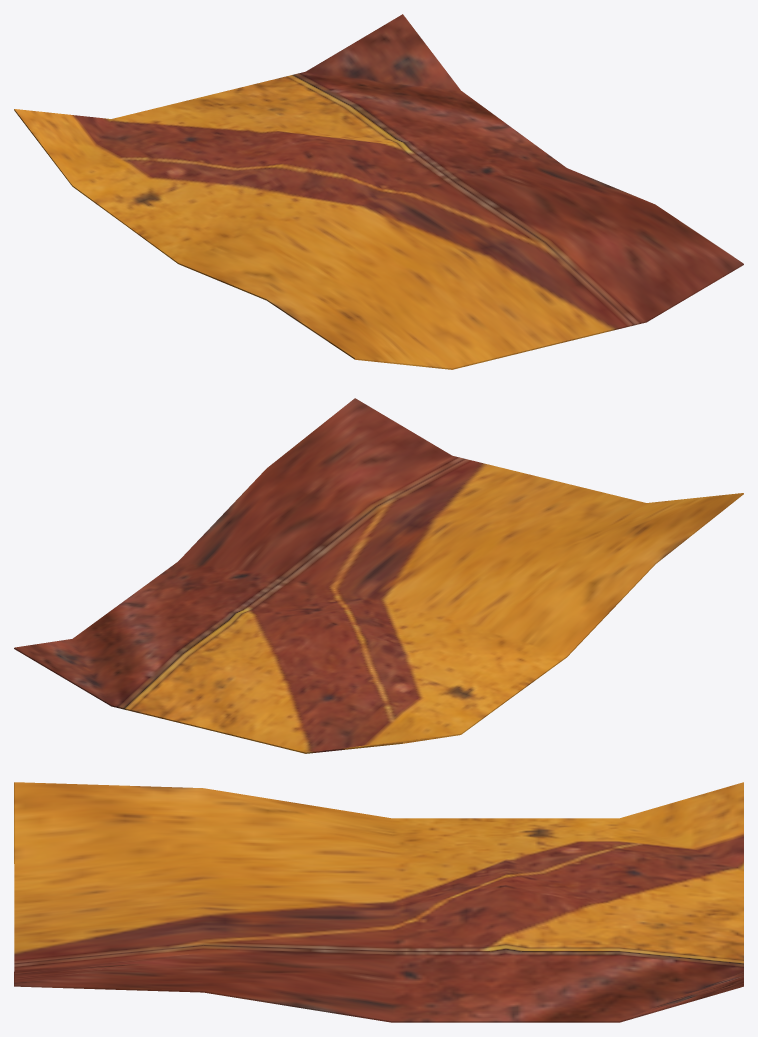
The model's file is barracks_tent.dae.
3 views of the same model, one above another, from view 1: azimuth 30°, elevation 25°; view 2: azimuth 150°, elevation 25°; view 3: azimuth 270°, elevation 25° (orthographic). The views are drawn at different scales.
Visible parts, largest first — view 1: barracks_tent; view 2: barracks_tent; view 3: barracks_tent.
Part boxes in pixels (x1,y1,x2,y2): barracks_tent: (14, 14, 743, 369); barracks_tent: (14, 398, 743, 753); barracks_tent: (14, 782, 743, 1022).
Size of the model in its own units: 9.33 by 14.17 by 0.8066.
